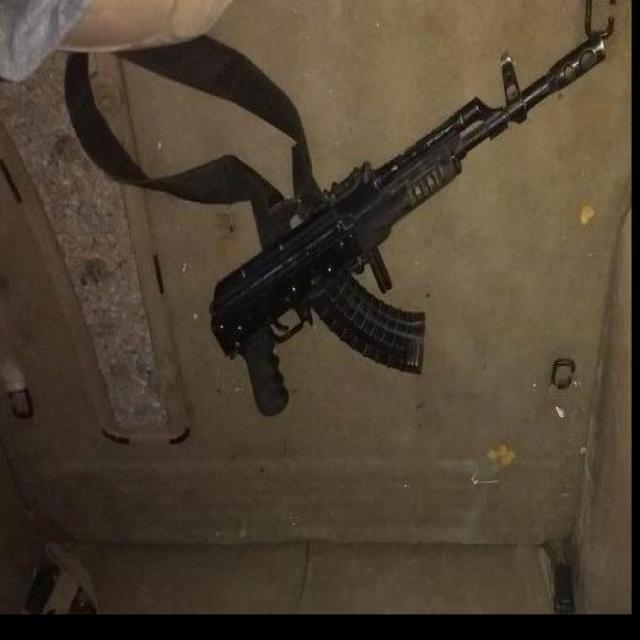weapon: (209, 31, 606, 418)
